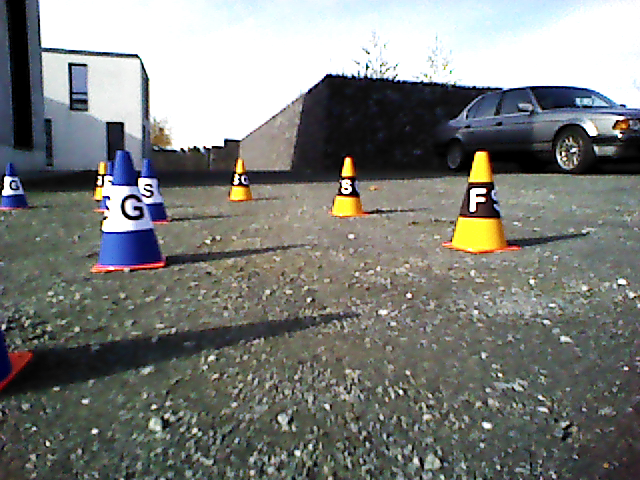bluecone: (100, 150, 160, 263), (1, 164, 28, 209), (143, 159, 163, 219)
yellowcone: (455, 152, 507, 250), (331, 157, 364, 215), (230, 159, 251, 199)
